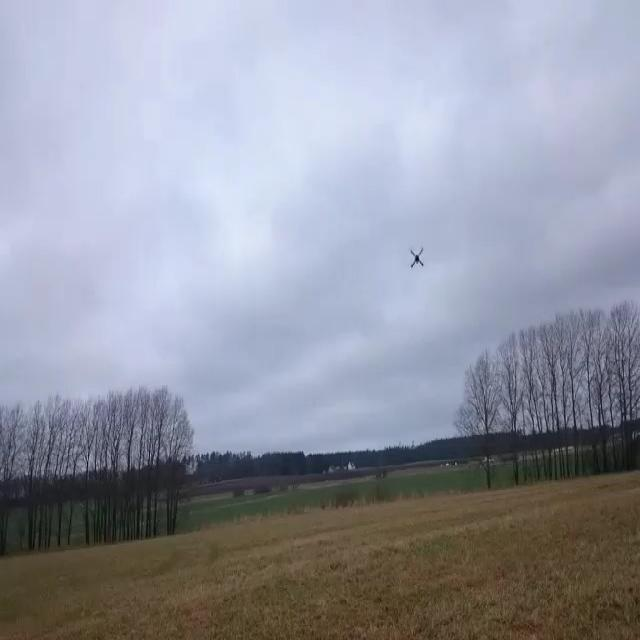drone: (409, 247, 425, 269)
